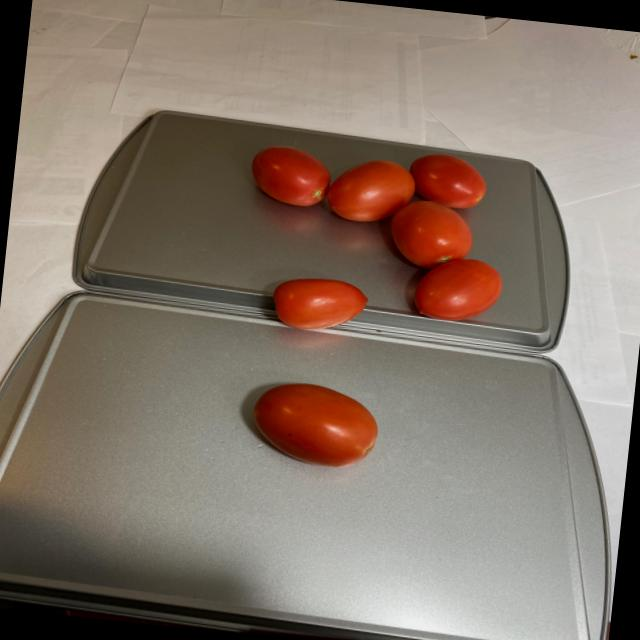tomato: (231, 133, 519, 350), (247, 376, 388, 474)
